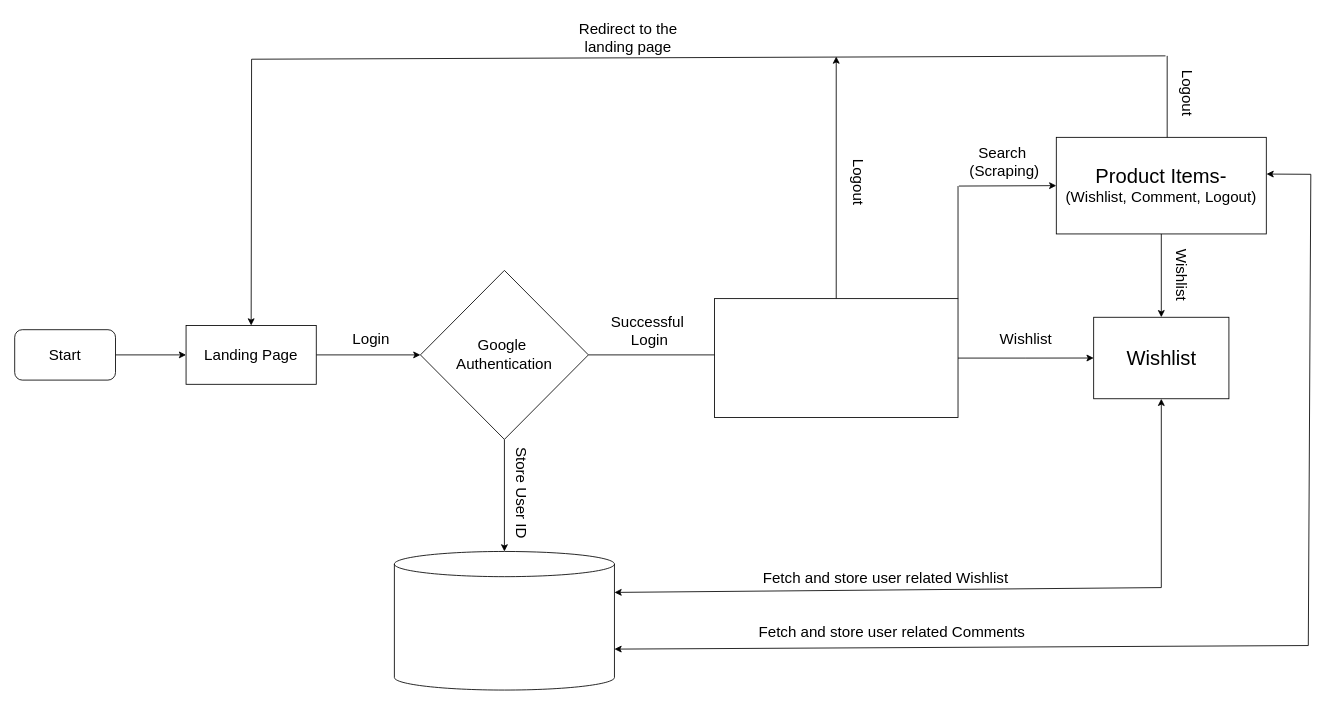
Some shapes in this 1333 by 705 pixel diagram are drawn without their labels. The centre of each missing label's shape, as x and y in pixels:
Home Page Deals of the Day Navbar - (Wishlist, Search, Logout): the point at 836,357
MongoDB (User data Storage ): the point at 504,620
